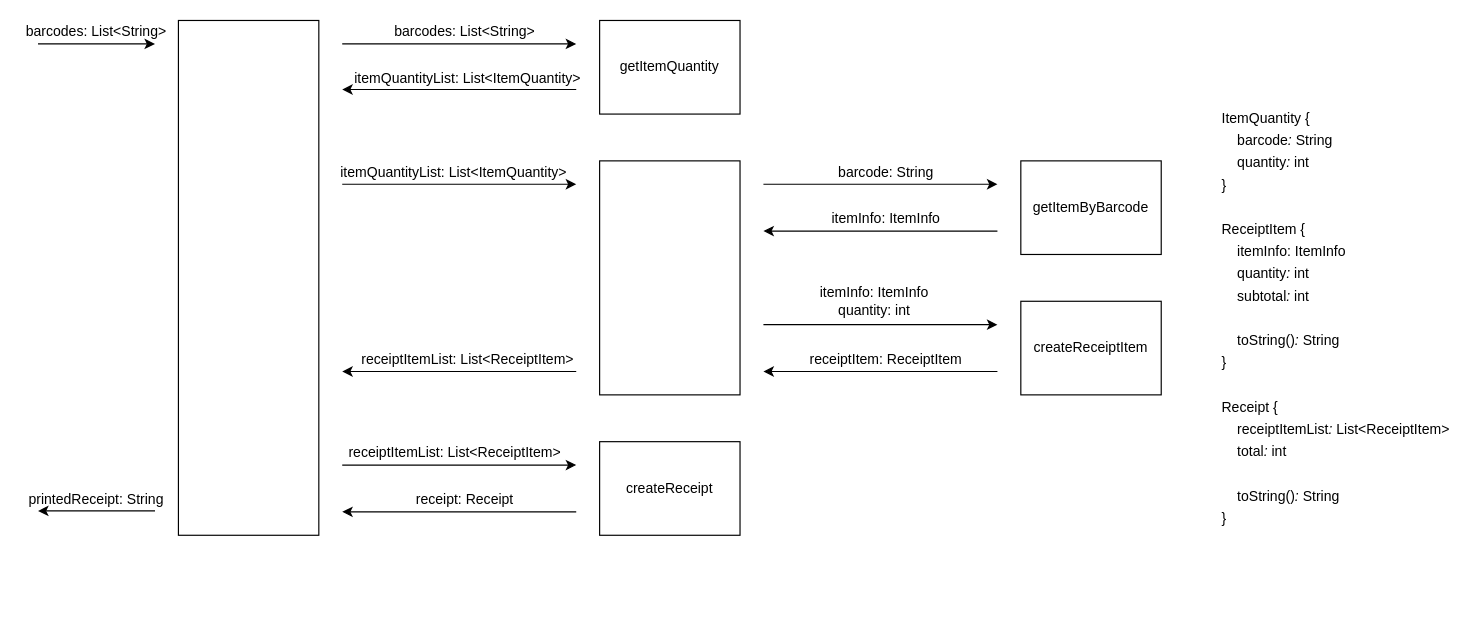
Image size: 1473x638. Some labels were removed from this diagram. The centre of each missing label's shape, as x and y in pixels:
"buildReceiptItems" goes at point 669,277.
"printReceipt" goes at point 248,277.
